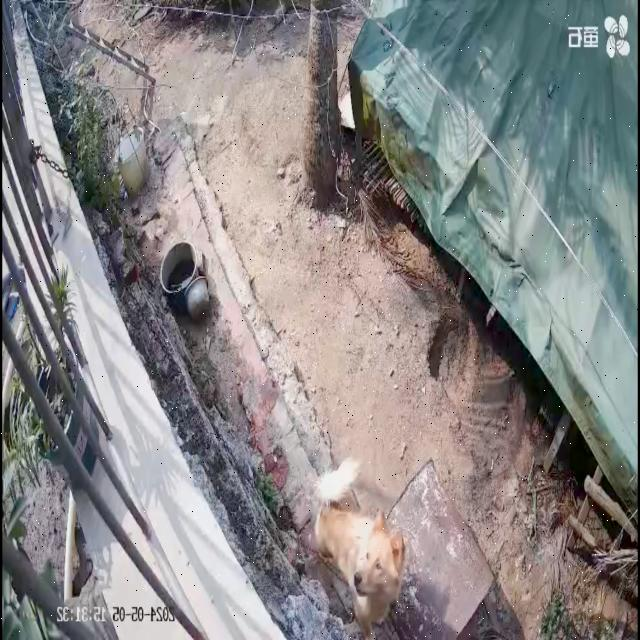dog: (314, 457, 410, 640)
